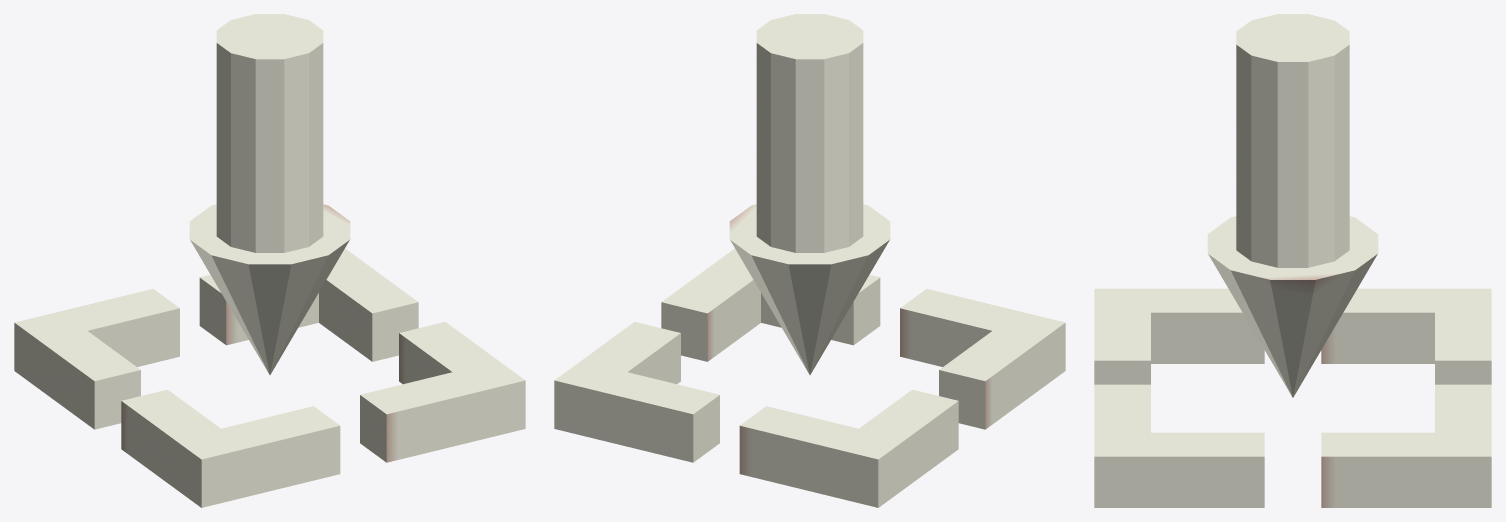
File: SpaceSelection.obj
3 views of the same model, side by side, from view 1: azimuth 30°, elevation 25°; view 2: azimuth 150°, elevation 25°; view 3: azimuth 270°, elevation 25° (orthographic). The views are drawn at different scales.
Parts seen in each view (by area): view 1: cuboid, cylinder, cone; view 2: cuboid, cylinder, cone; view 3: cuboid, cylinder, cone.
Part boxes in pixels (x1,y1,x2,y2): cuboid: (14,248,525,507); cylinder: (216,14,323,252); cone: (189,204,350,374); cuboid: (554,248,1065,507); cylinder: (756,14,863,252); cone: (729,204,890,374); cuboid: (1094,288,1491,507); cylinder: (1236,14,1349,267); cone: (1207,216,1378,397).
Bounding box in the file's own units: 0.875 × 0.9375 × 0.875.
Materials: 1 (1 with a texture image).
